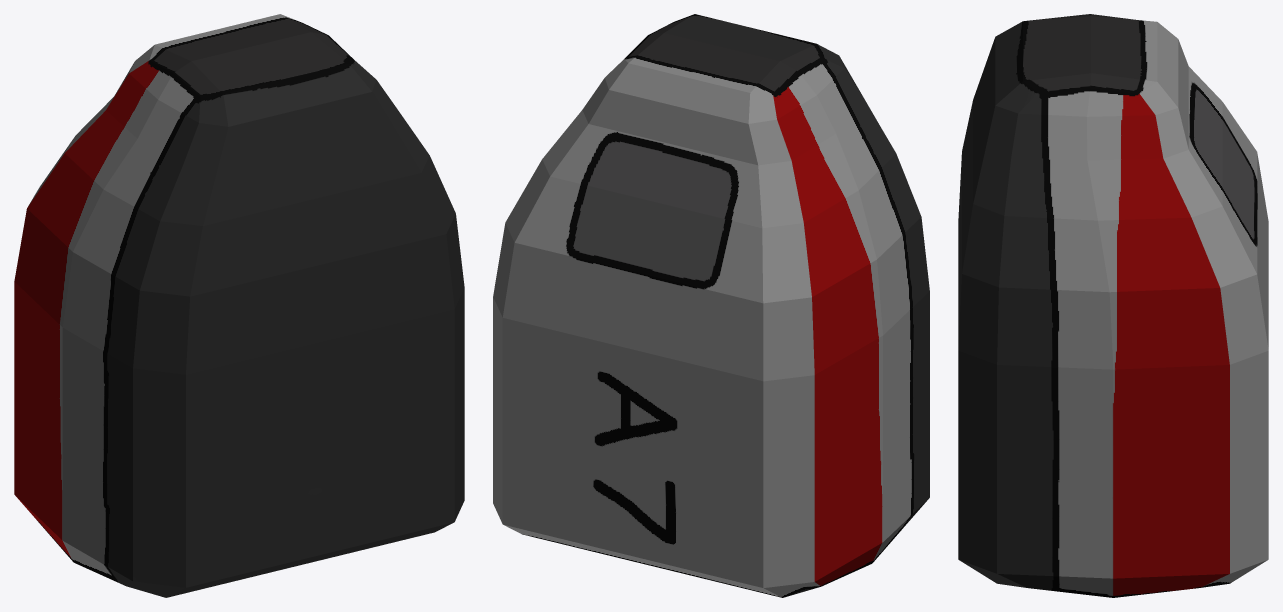
Rendered from ship.fbx.
3 renders of one model, left to right at view 1: azimuth 30°, elevation 25°; view 2: azimuth 150°, elevation 25°; view 3: azimuth 270°, elevation 25°, orthographic. The views are drawn at different scales.
Parts seen in each view (by area): view 1: Cube; view 2: Cube; view 3: Cube.
Part boxes in pixels (x1,y1,x2,y2): Cube: (14, 14, 464, 597); Cube: (493, 14, 929, 597); Cube: (958, 14, 1268, 597).
Bounding box in the file's own units: 4.5 × 6 × 3.5.
